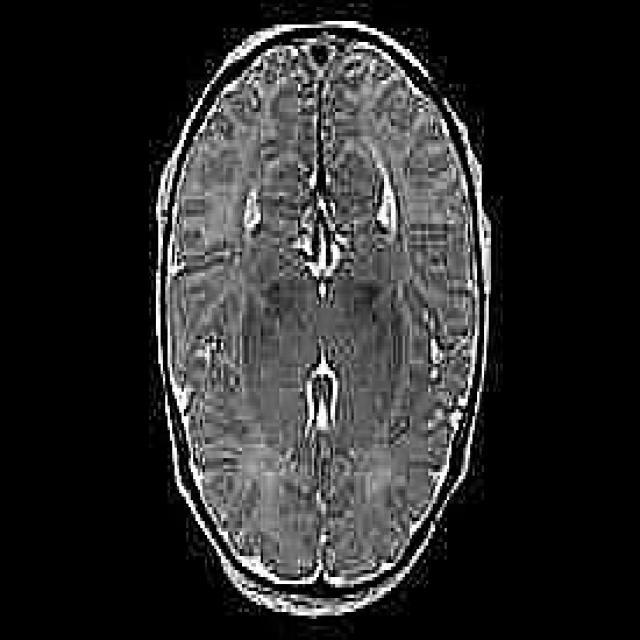notumor: (154, 21, 491, 619), (154, 21, 489, 612)
